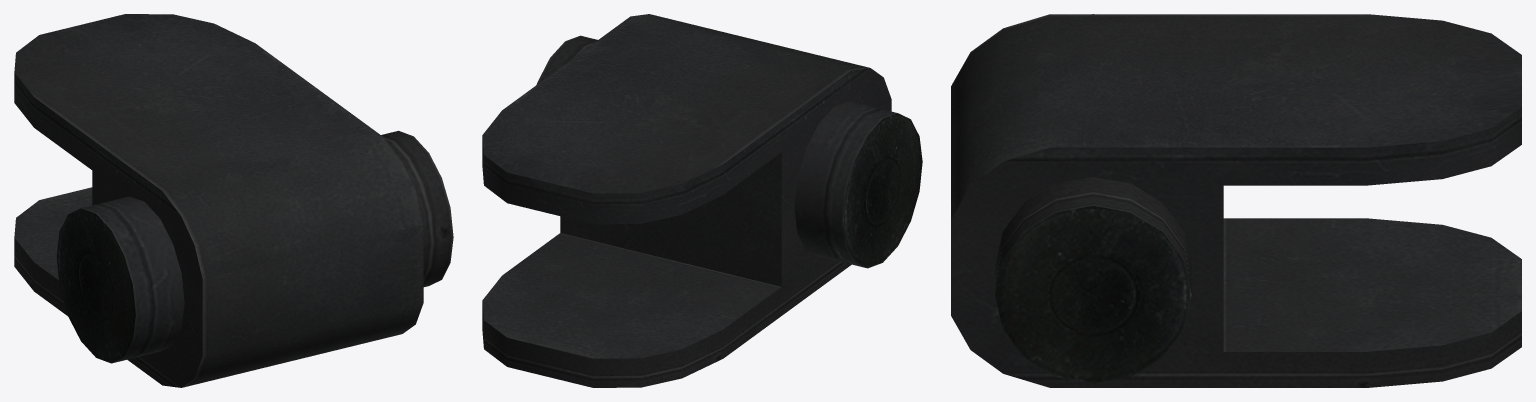
File: wall_mount_arm-3.FBX
3 renders of one model, left to right at view 1: azimuth 30°, elevation 25°; view 2: azimuth 150°, elevation 25°; view 3: azimuth 270°, elevation 25°, orthographic. The views are drawn at different scales.
Visible parts, largest first — view 1: arm-3_LOD0; view 2: arm-3_LOD0; view 3: arm-3_LOD0.
Part boxes in pixels (x1,y1,x2,y2): arm-3_LOD0: [14, 14, 453, 387]; arm-3_LOD0: [482, 14, 922, 387]; arm-3_LOD0: [951, 14, 1521, 387].
Size of what is drawn, in the model's own units: 4.12 by 2.41 by 5.18.
